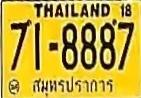1: (34, 22, 40, 70)
7: (10, 20, 30, 68), (118, 21, 134, 67)
8: (61, 22, 77, 69), (80, 22, 96, 69), (99, 22, 115, 69)
SPK: (30, 74, 116, 98)
